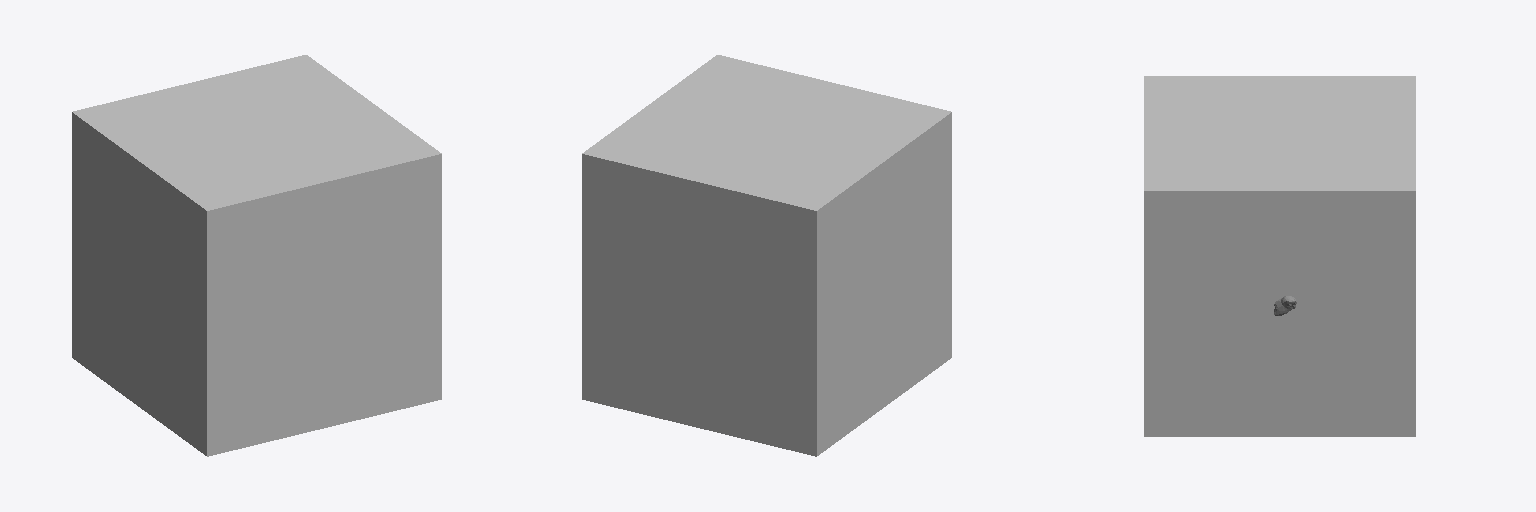
File: Rabit3DScan.obj
The picture shows the model from 3 angles: view 1: azimuth 30°, elevation 25°; view 2: azimuth 150°, elevation 25°; view 3: azimuth 270°, elevation 25°; orthographic projection.
Visible parts, largest first — view 1: Cube; view 2: Cube; view 3: Cube.
Boxes of the visible parts, <box> form: Cube: <box>72,55,441,456</box>; Cube: <box>582,55,951,456</box>; Cube: <box>1144,76,1415,436</box>.
Bounding box in the file's own units: 2.11 × 2 × 2.